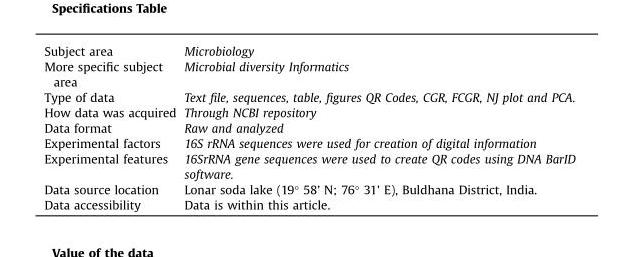table: (43, 43, 574, 211)
table column: (179, 43, 574, 211), (43, 43, 179, 211)
table row: (43, 58, 574, 89), (43, 150, 574, 181), (43, 119, 574, 135), (43, 43, 574, 58), (43, 89, 574, 104), (43, 104, 574, 119), (43, 135, 574, 150), (43, 181, 574, 196), (43, 196, 574, 211)
